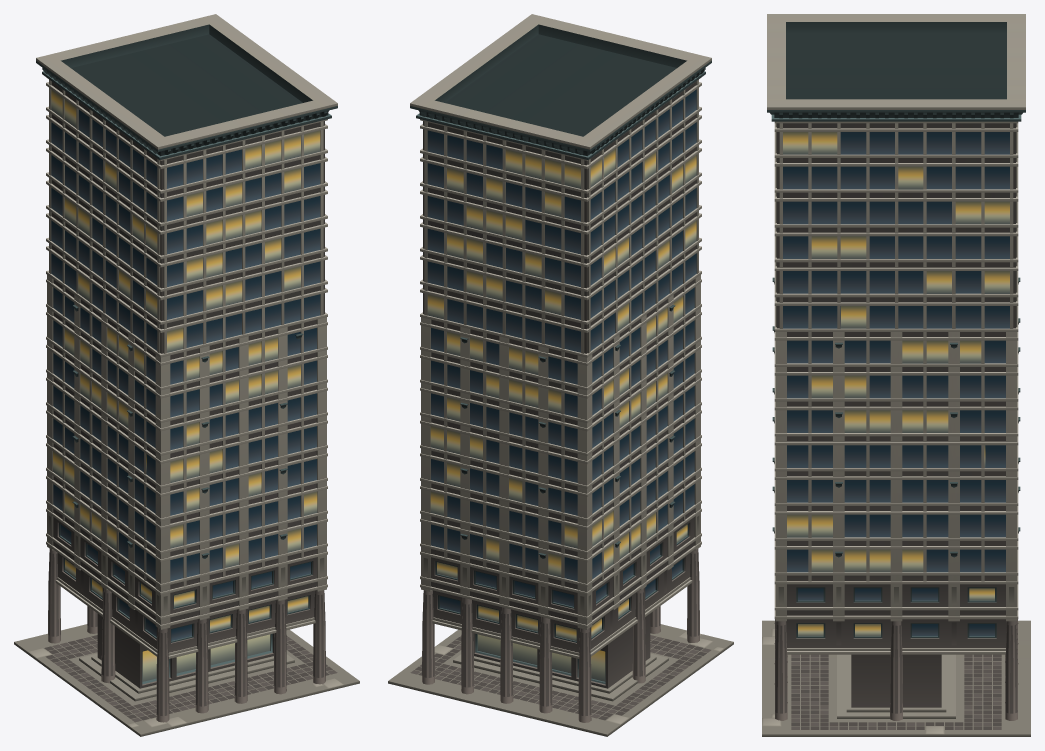
Rendered from Skyscraper_2A.fbx.
3 views of the same model, side by side, from view 1: azimuth 30°, elevation 25°; view 2: azimuth 150°, elevation 25°; view 3: azimuth 270°, elevation 25° (orthographic). The views are drawn at different scales.
Visible parts, largest first — view 1: Skyscraper_2A, Window_Lights_Skyscraper_2A; view 2: Skyscraper_2A, Window_Lights_Skyscraper_2A; view 3: Skyscraper_2A, Window_Lights_Skyscraper_2A.
Boxes of the visible parts, x1,y1,x2,y2 form: Skyscraper_2A: (14, 14, 359, 736); Window_Lights_Skyscraper_2A: (51, 89, 320, 681); Skyscraper_2A: (388, 14, 733, 736); Window_Lights_Skyscraper_2A: (427, 149, 696, 681); Skyscraper_2A: (762, 14, 1030, 736); Window_Lights_Skyscraper_2A: (783, 132, 1009, 636).
Bounding box in the file's own units: 28 × 71.2 × 28.
